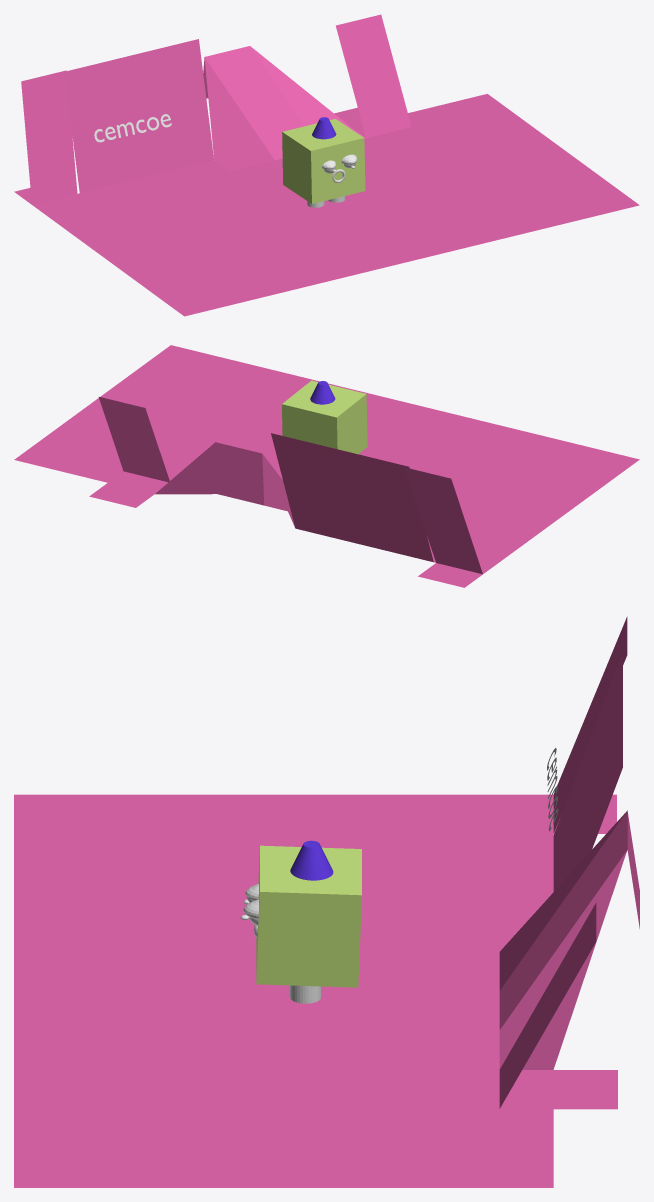
File: first.glb
The picture shows the model from 3 angles, top to bottom: view 1: azimuth 30°, elevation 25°; view 2: azimuth 150°, elevation 25°; view 3: azimuth 270°, elevation 25°; orthographic projection. The views are drawn at different scales.
Parts seen in each view (by area): view 1: Grid, Cube, d; view 2: Grid, Cube, Cone; view 3: Grid, Cube, Cone.
Boxes of the visible parts, x1,y1,x2,y2 form: Grid: [14, 14, 639, 316]; Cube: [282, 119, 365, 203]; d: [94, 114, 171, 142]; Grid: [14, 345, 639, 587]; Cube: [282, 380, 367, 454]; Cone: [310, 381, 335, 404]; Grid: [14, 616, 639, 1187]; Cube: [256, 845, 361, 987]; Cone: [290, 840, 333, 880].
Size of the model in its own units: 18.23 by 4.19 by 12.26.
